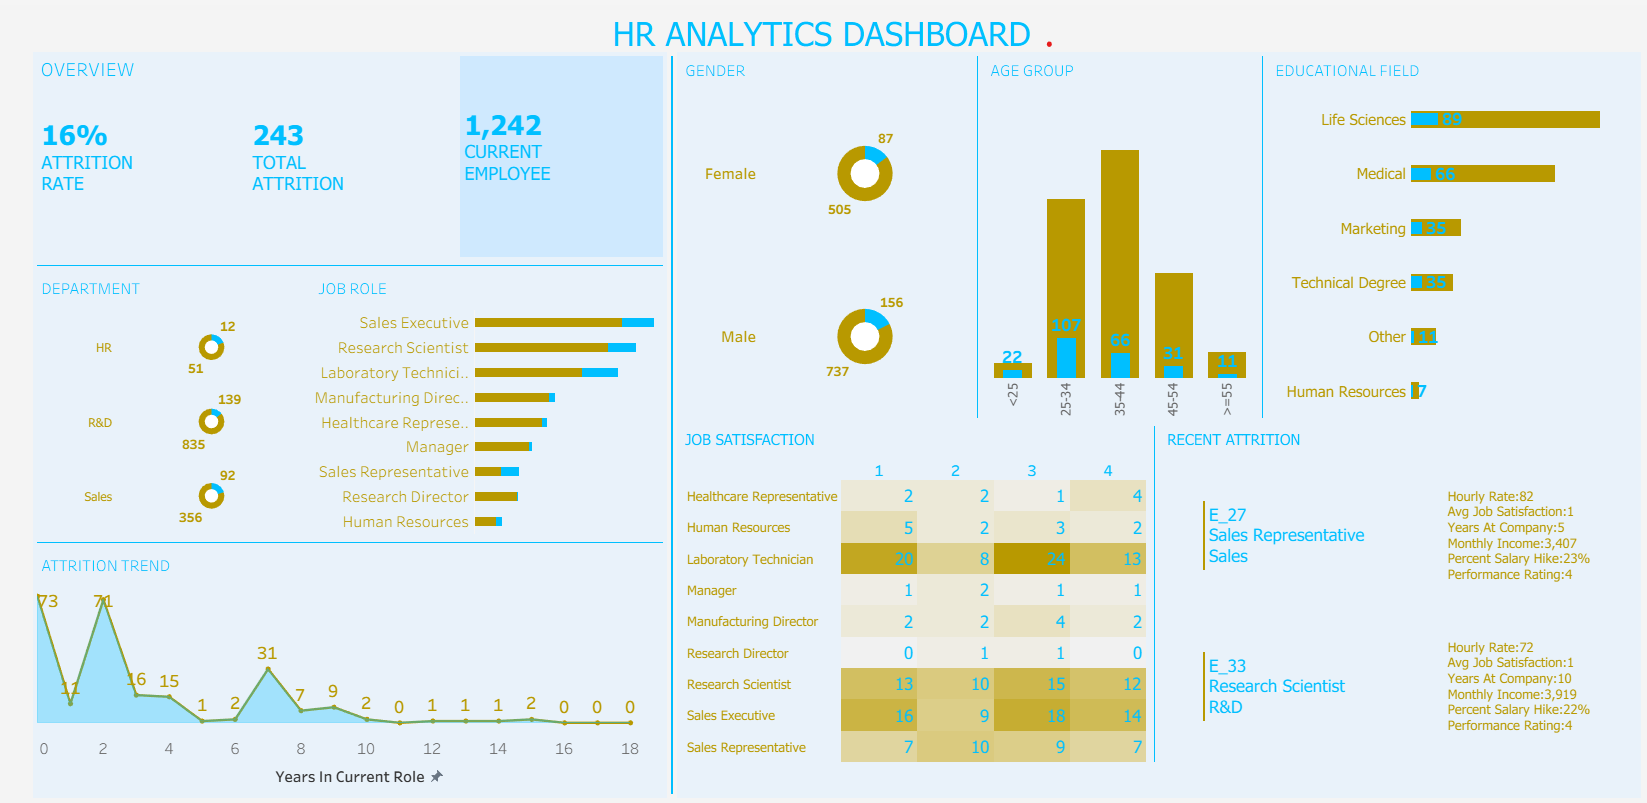

Layout of this report page (visuals, bound fields, positions):
{"tool":"tableau","page":{"name":"Dashboard 1","canvas":[1657,801],"ordinal":0},"visuals":[{"type":"text","box":[8,8,1641,64]},{"type":"legend","title":"Age groups","param":"[federated.0y18ny60h2o2i117fgkqo0hvf8e2].[:Measure Names]","box":[1336,30,318,40]},{"type":"text","box":[44,40,626,48]},{"type":"blank","box":[8,72,32,721]},{"type":"worksheet","title":"Attrition Rate","mark":"Automatic","box":[40,72,211.3,209]},{"type":"worksheet","title":"Total Attrition","mark":"Automatic","box":[251.3,72,211.3,209]},{"type":"worksheet","title":"Current Employee","mark":"Automatic","box":[462.7,72,211.3,209]},{"type":"blank","box":[674,72,10,721]},{"type":"worksheet","title":"Gender","mark":"Pie","rows":["Gender"],"cols":["Calculation_1615384921362739204","Calculation_1615384921362767878"],"box":[684,72,296,370]},{"type":"blank","box":[980,72,9,370]},{"type":"worksheet","title":"Age groups","mark":"Bar","rows":["EmployeeCount","Attrition Rate (copy)_1615384921335169025"],"cols":["Age (bin)"],"box":[989,72,276,370]},{"type":"blank","box":[1265,72,9,370]},{"type":"worksheet","title":"Educational Field","mark":"Bar","rows":["EducationField"],"cols":["EmployeeCount","Attrition Rate (copy)_1615384921335169025"],"box":[1274,72,375,370]},{"type":"blank","box":[40,281,634,9]},{"type":"worksheet","title":"Attrition by Dept","mark":"Pie","rows":["Department"],"cols":["Calculation_1615384921362739204","Calculation_1615384921362767878"],"box":[40,290,277,268]},{"type":"worksheet","title":"Job Roles","mark":"Bar","rows":["JobRole"],"cols":["EmployeeCount"],"box":[317,290,357,268]},{"type":"worksheet","title":"Job Satisfaction","mark":"Square","rows":["JobRole"],"cols":["JobSatisfaction"],"box":[684,442,473,344]},{"type":"blank","box":[1157,442,9,344]},{"type":"worksheet","title":"Attrition Details","mark":"Automatic","rows":["EmployeeNumber"],"cols":["Calculation_1611444272040787970","Calculation_1611444272040873988","Calculation_1611444272040960006"],"box":[1166,442,483,344]},{"type":"blank","box":[40,558,634,9]},{"type":"worksheet","title":"Attrition Trend","mark":"Line","rows":["Attrition Rate (copy)_1615384921335169025","Attrition Rate (copy)_1615384921335169025"],"cols":["YearsInCurrentRole"],"box":[40,567,634,226]}]}

Visuals, with their boxes in screenshot pixels (x1, y1, x2, y2), scaled from the page's 1657x801 canvas onto the 1647x803 screenshot:
text: Rect(8, 8, 1639, 72)
"Age groups" legend: Rect(1328, 30, 1644, 70)
text: Rect(44, 40, 666, 88)
blank: Rect(8, 72, 40, 795)
"Attrition Rate" worksheet: Rect(40, 72, 250, 282)
"Total Attrition" worksheet: Rect(250, 72, 460, 282)
"Current Employee" worksheet: Rect(460, 72, 670, 282)
blank: Rect(670, 72, 680, 795)
"Gender" worksheet (Pie marks): Rect(680, 72, 974, 443)
blank: Rect(974, 72, 983, 443)
"Age groups" worksheet (Bar marks): Rect(983, 72, 1257, 443)
blank: Rect(1257, 72, 1266, 443)
"Educational Field" worksheet (Bar marks): Rect(1266, 72, 1639, 443)
blank: Rect(40, 282, 670, 291)
"Attrition by Dept" worksheet (Pie marks): Rect(40, 291, 315, 559)
"Job Roles" worksheet (Bar marks): Rect(315, 291, 670, 559)
"Job Satisfaction" worksheet (Square marks): Rect(680, 443, 1150, 788)
blank: Rect(1150, 443, 1159, 788)
"Attrition Details" worksheet: Rect(1159, 443, 1639, 788)
blank: Rect(40, 559, 670, 568)
"Attrition Trend" worksheet (Line marks): Rect(40, 568, 670, 795)
